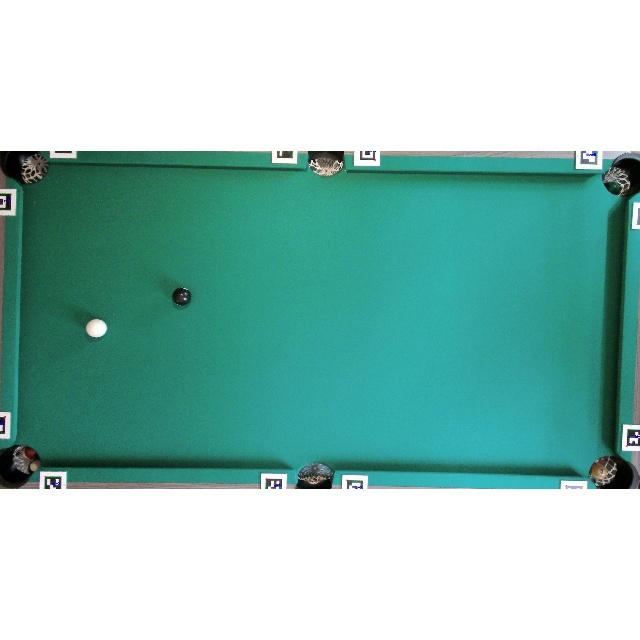cue ball: (84, 318, 108, 339)
other: (172, 287, 191, 306)
